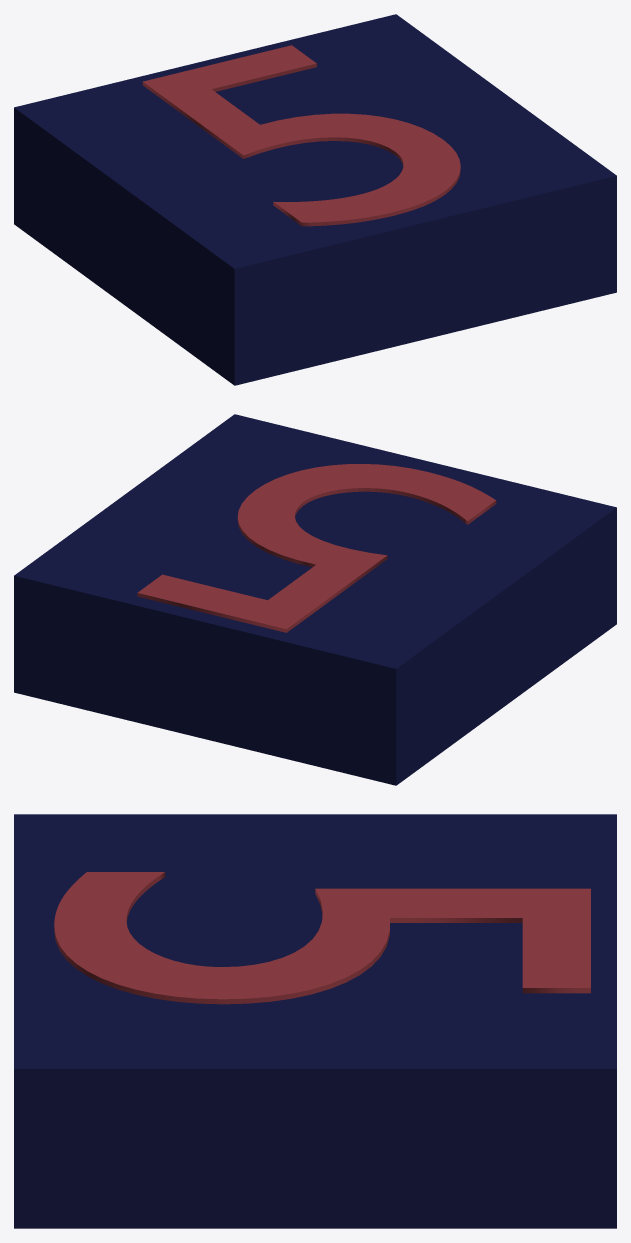
The model's file is five-pad.fbx.
The picture shows the model from 3 angles, top to bottom: view 1: azimuth 30°, elevation 25°; view 2: azimuth 150°, elevation 25°; view 3: azimuth 270°, elevation 25°; orthographic projection. The views are drawn at different scales.
Parts seen in each view (by area): view 1: Cube, Text; view 2: Cube, Text; view 3: Cube, Text.
Boxes of the visible parts, x1,y1,x2,y2 form: Cube: [14, 14, 616, 385]; Text: [142, 45, 460, 226]; Cube: [14, 414, 616, 785]; Text: [137, 464, 496, 632]; Cube: [14, 814, 616, 1228]; Text: [54, 872, 590, 1004].
Bounding box in the file's own units: 200 × 60.26 × 200.
